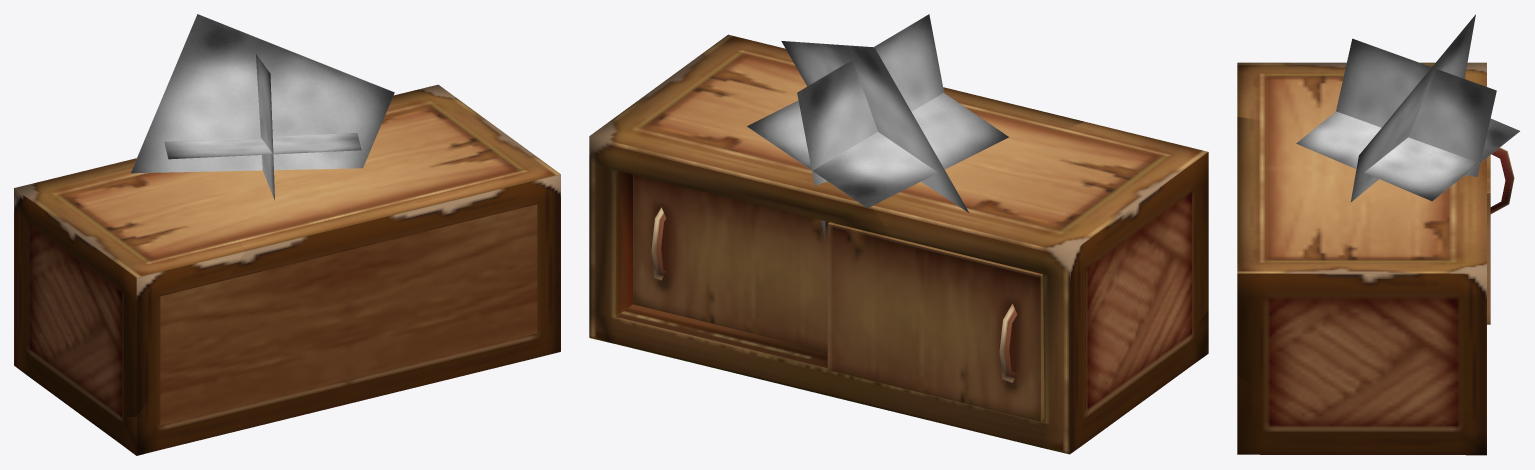
Rendered from a_SWGcase02b.glb.
3 views of the same model, side by side, from view 1: azimuth 30°, elevation 25°; view 2: azimuth 150°, elevation 25°; view 3: azimuth 270°, elevation 25° (orthographic). The views are drawn at different scales.
Parts seen in each view (by area): view 1: a_SWGcase02b; view 2: a_SWGcase02b; view 3: a_SWGcase02b.
Part boxes in pixels (x1,y1,x2,y2): a_SWGcase02b: (14, 14, 560, 455); a_SWGcase02b: (589, 14, 1208, 454); a_SWGcase02b: (1237, 14, 1519, 455).
Bounding box in the file's own units: 1.4 × 0.9887 × 0.7937.
Materials: 2 (2 with a texture image).
